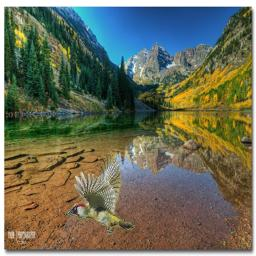Woodpecker: (64, 149, 135, 235)
